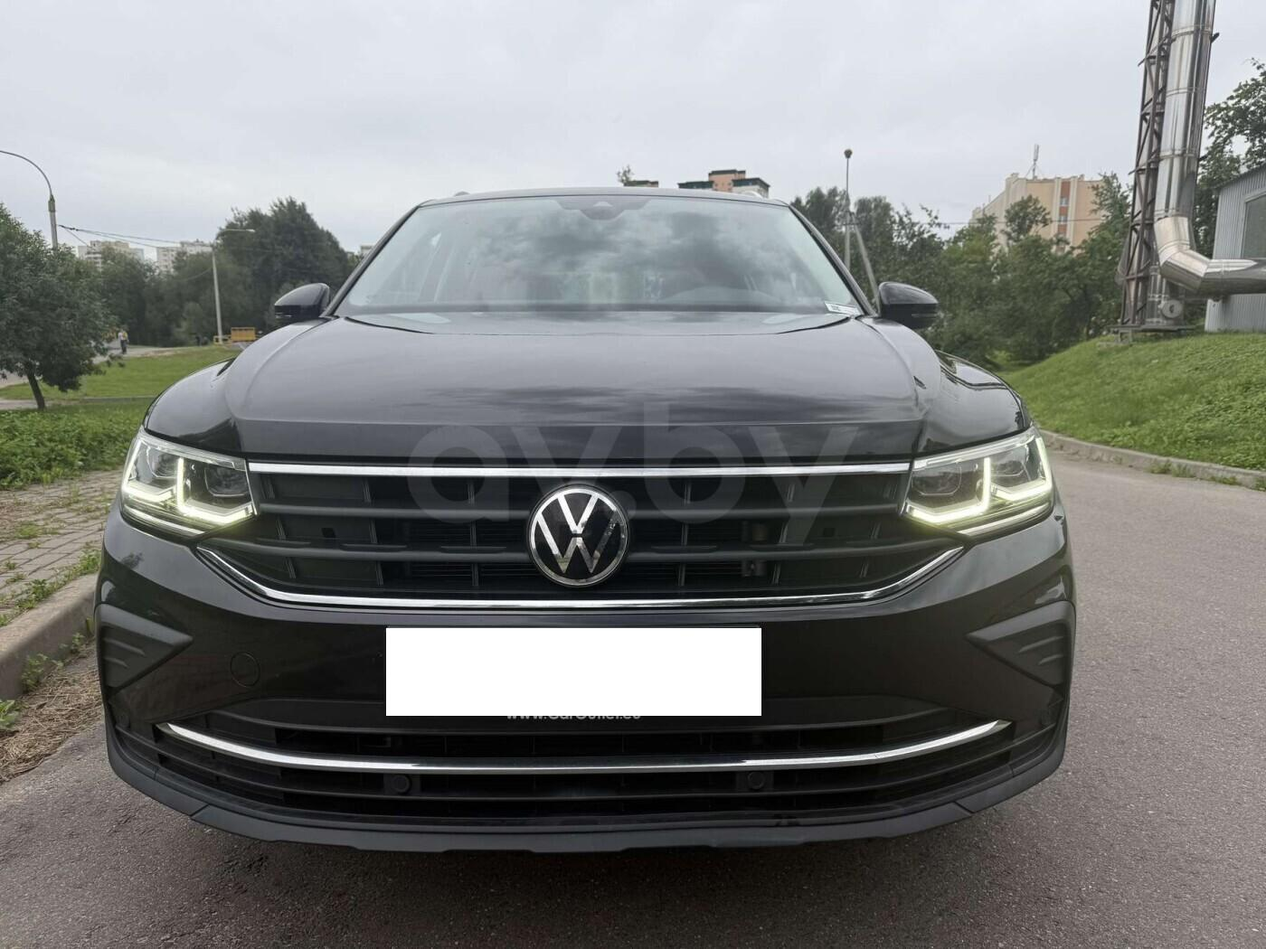Tiguan_2020-2024: (93, 189, 1076, 857)
